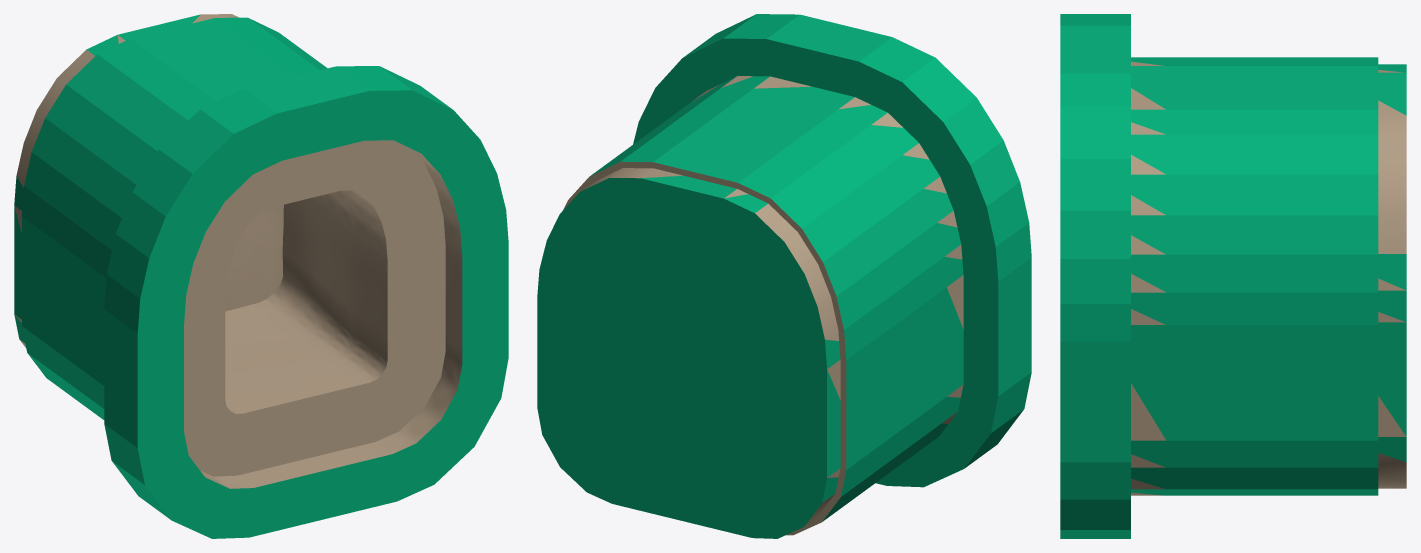
File: TT_C_End.fbx
3 renders of one model, left to right at view 1: azimuth 30°, elevation 25°; view 2: azimuth 150°, elevation 25°; view 3: azimuth 270°, elevation 25°, orthographic. The views are drawn at different scales.
Parts seen in each view (by area): view 1: TT_C_End_LOD0; view 2: TT_C_End_LOD0; view 3: TT_C_End_LOD0.
Boxes of the visible parts, x1=… form: TT_C_End_LOD0: x1=14, y1=14, x2=508, y2=538; TT_C_End_LOD0: x1=537, y1=14, x2=1031, y2=538; TT_C_End_LOD0: x1=1060, y1=14, x2=1406, y2=538.
Bounding box in the file's own units: 320 × 344 × 245.
